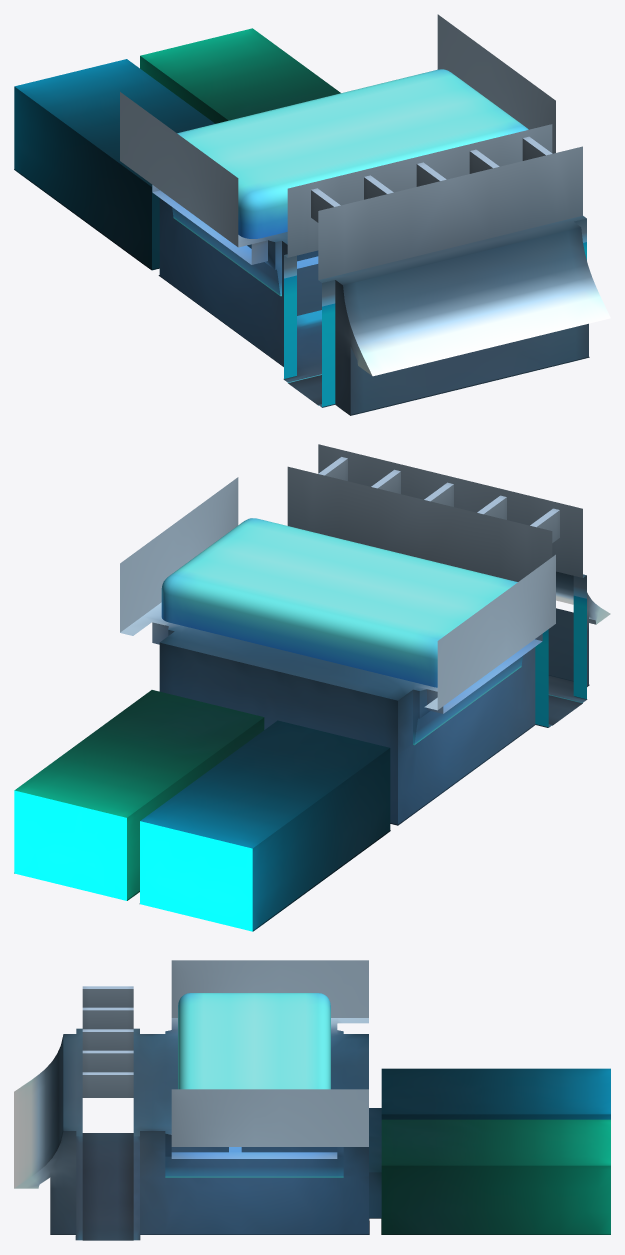
The model's file is M_Single_room_x.fbx.
The picture shows the model from 3 angles, top to bottom: view 1: azimuth 30°, elevation 25°; view 2: azimuth 150°, elevation 25°; view 3: azimuth 270°, elevation 25°; orthographic projection. The views are drawn at different scales.
Parts seen in each view (by area): view 1: Room.014; view 2: Room.014; view 3: Room.014.
Boxes of the visible parts, box(x1,y1,x2,y2) form: Room.014: box(14, 14, 610, 415); Room.014: box(14, 444, 610, 931); Room.014: box(14, 960, 610, 1240).
Bounding box in the file's own units: 2400 × 1405 × 4689.
